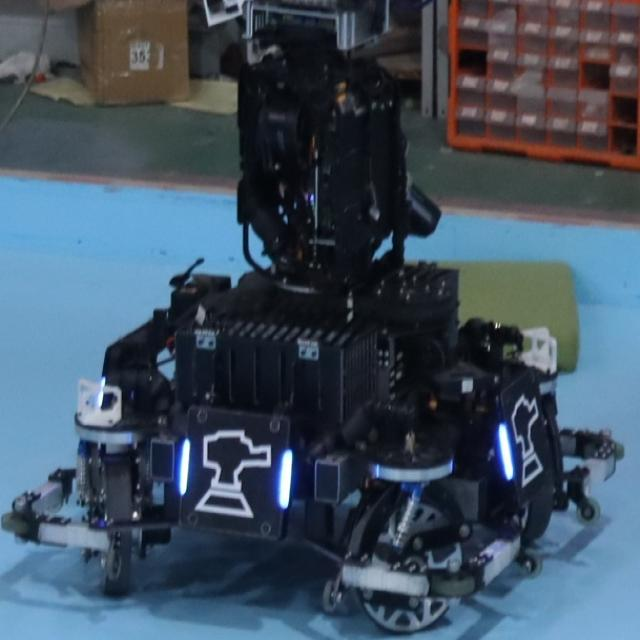Bs: (178, 420, 296, 527), (495, 383, 547, 493)
